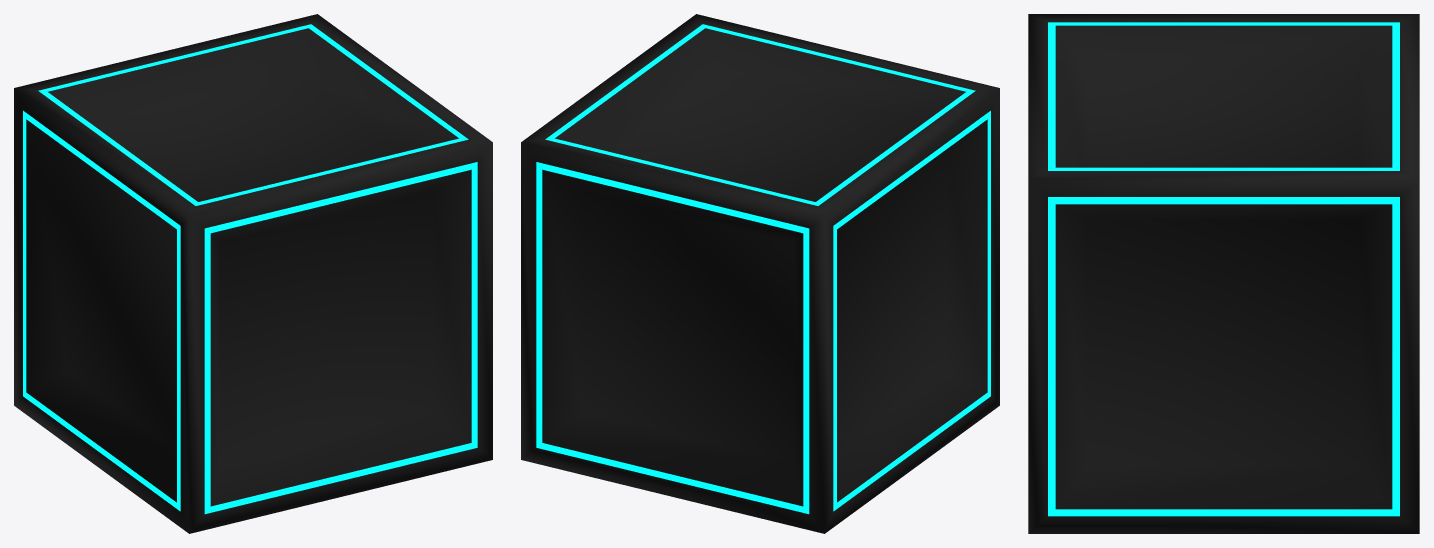
Rendered from pickupCube.fbx.
The picture shows the model from 3 angles, left to right: view 1: azimuth 30°, elevation 25°; view 2: azimuth 150°, elevation 25°; view 3: azimuth 270°, elevation 25°; orthographic projection. The views are drawn at different scales.
Visible parts, largest first — view 1: Cube; view 2: Cube; view 3: Cube.
Boxes of the visible parts, left/top/right/bottom form: Cube: left=14, top=14, right=492, bottom=533; Cube: left=521, top=14, right=999, bottom=533; Cube: left=1028, top=14, right=1419, bottom=533.
Bounding box in the file's own units: 2 × 2 × 2.
